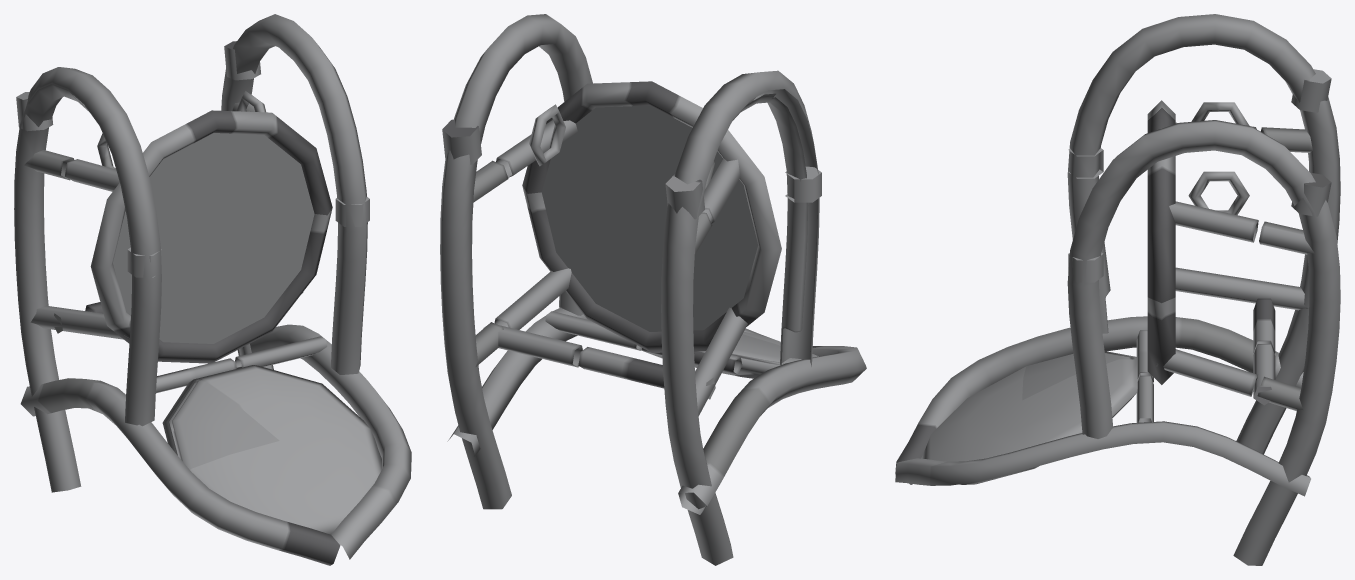
3 views of the same model, side by side, from view 1: azimuth 30°, elevation 25°; view 2: azimuth 150°, elevation 25°; view 3: azimuth 270°, elevation 25° (orthographic). The views are drawn at different scales.
Bounding box in the file's own units: 0.7 × 1.19 × 1.09.
